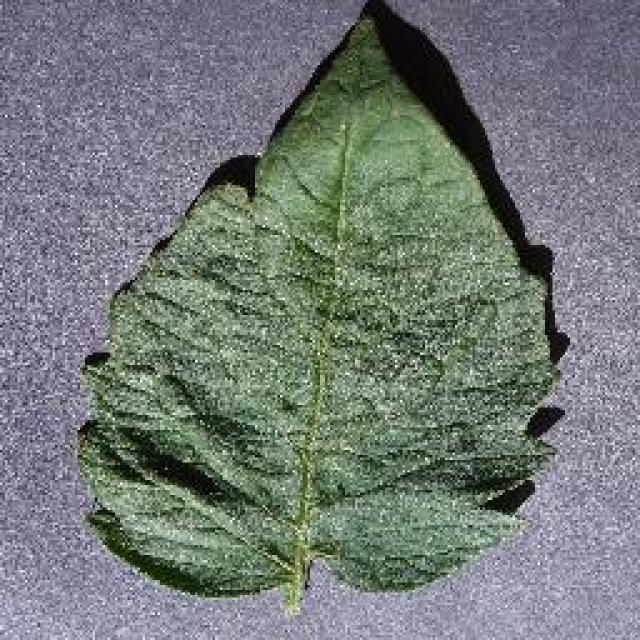Tomato___healthy: (73, 6, 565, 617)
